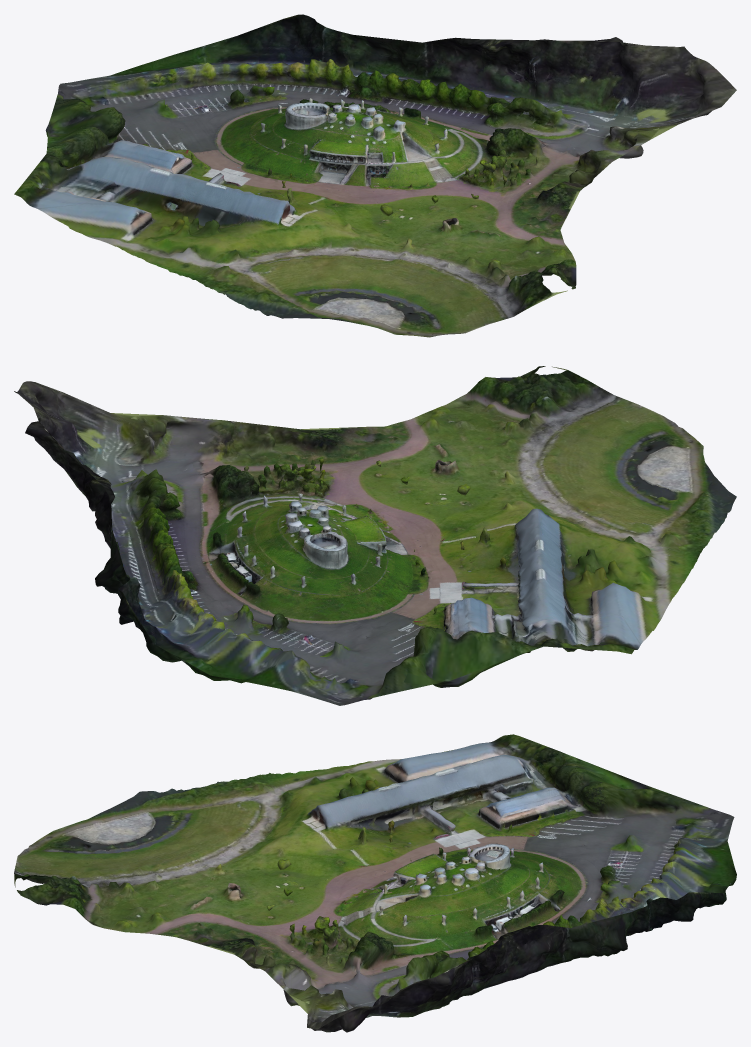
File: jomon-museum.glb
3 renders of one model, top to bottom at view 1: azimuth 30°, elevation 25°; view 2: azimuth 150°, elevation 25°; view 3: azimuth 270°, elevation 25°, orthographic. The views are drawn at different scales.
Parts seen in each view (by area): view 1: g0; view 2: g0; view 3: g0.
Boxes of the visible parts, x1=… form: g0: x1=14, y1=14, x2=736, y2=337; g0: x1=14, y1=366, x2=736, y2=705; g0: x1=14, y1=734, x2=736, y2=1032.
Bounding box in the file's own units: 2.83 × 0.2562 × 2.73.
Materials: 1 (1 with a texture image).
